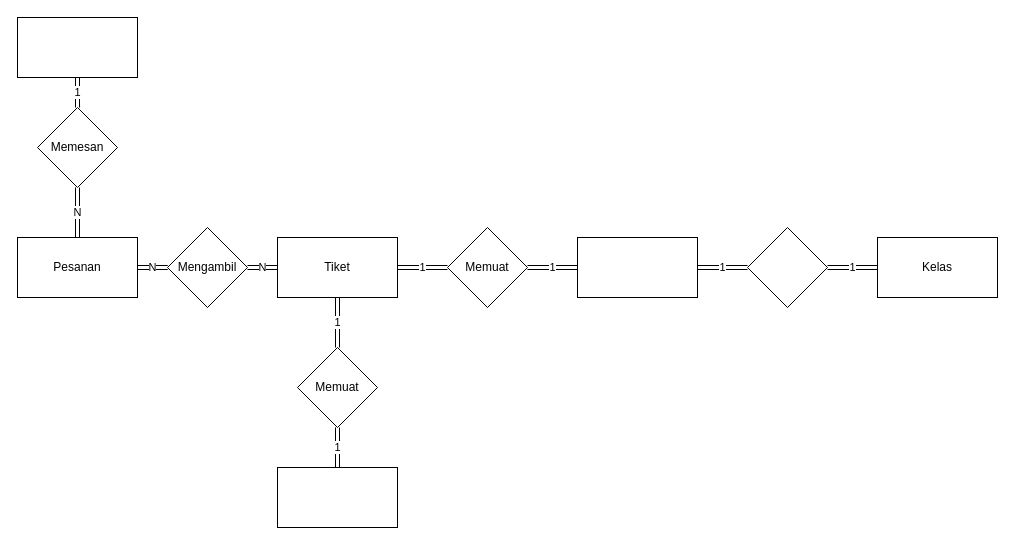
The diagram is 1015 pixels wide and 545 high, and some of its shapes have lost their labels. The centre of each missing label's shape, as x and y in pixels:
"Gerbong" belongs at (637,267).
"Memiliki" belongs at (787,267).
"Rute" belongs at (337,497).
"User" belongs at (77,47).
